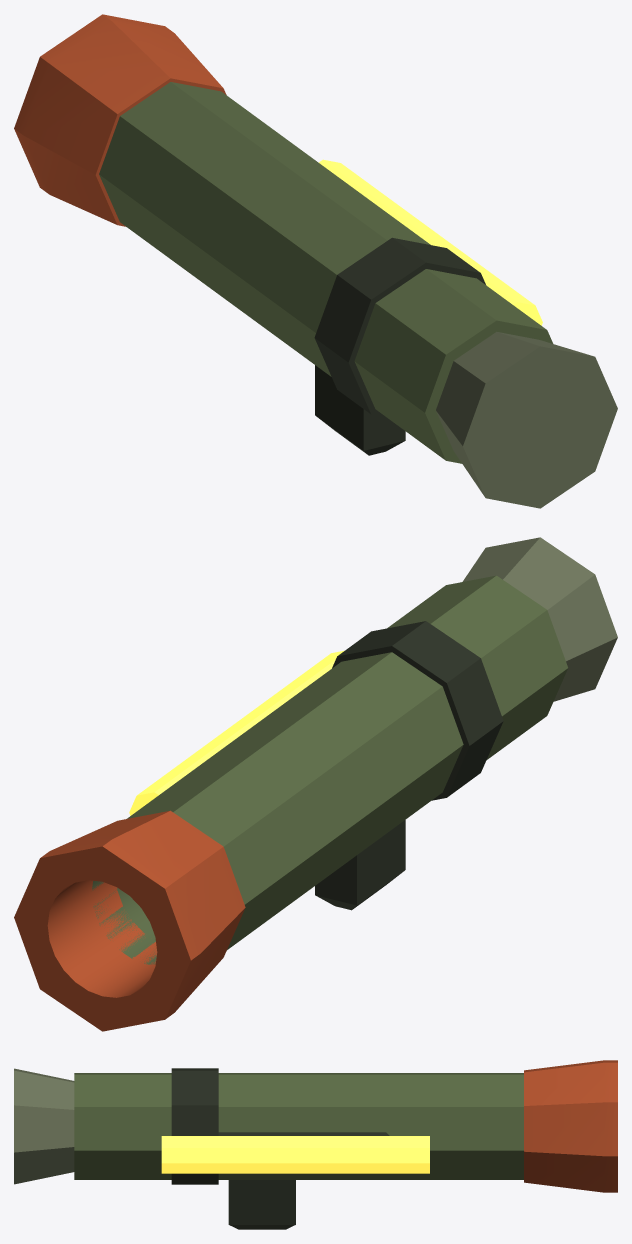
File: w_b_aqua_heavy_bazooka.glb
The picture shows the model from 3 angles, top to bottom: view 1: azimuth 30°, elevation 25°; view 2: azimuth 150°, elevation 25°; view 3: azimuth 270°, elevation 25°; orthographic projection. The views are drawn at different scales.
Parts seen in each view (by area): view 1: weapon_team_color, weapon_body, weapon; view 2: weapon_team_color, weapon_body, weapon; view 3: weapon_team_color, weapon_body, weapon.
Part boxes in pixels (x1,y1,x2,y2): weapon_team_color: [99, 82, 553, 463]; weapon_body: [14, 14, 617, 508]; weapon: [319, 159, 542, 325]; weapon_team_color: [92, 575, 567, 964]; weapon_body: [14, 537, 617, 1031]; weapon: [129, 650, 344, 815]; weapon_team_color: [74, 1073, 523, 1179]; weapon_body: [14, 1060, 617, 1229]; weapon: [161, 1136, 429, 1173].
Size of the model in its own units: 1.41 by 1.62 by 5.4.
